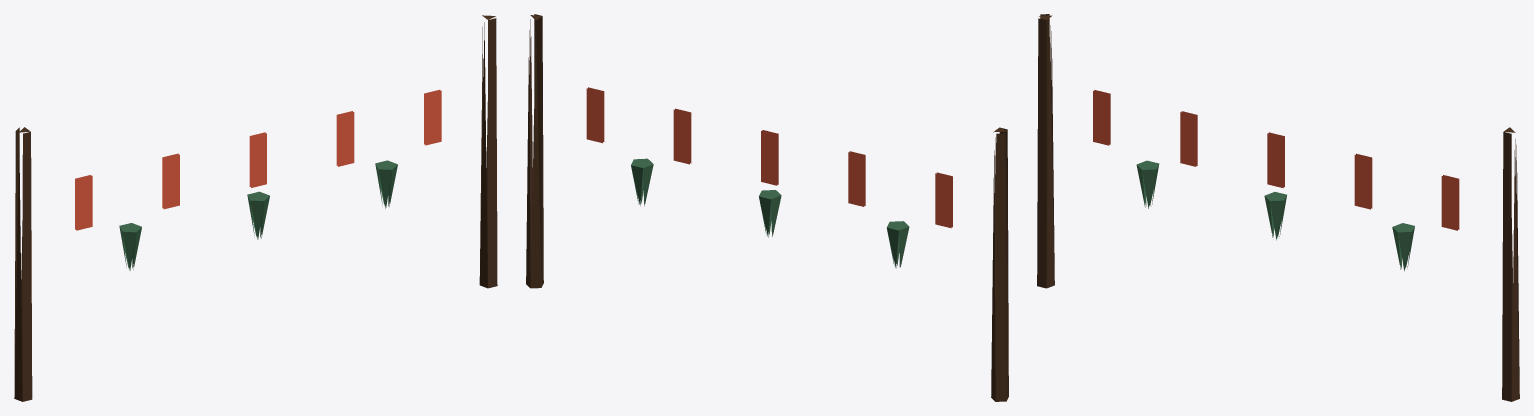
File: prop_plague_rope_lod1.glb
3 renders of one model, left to right at view 1: azimuth 30°, elevation 25°; view 2: azimuth 150°, elevation 25°; view 3: azimuth 330°, elevation 25°, orthographic.
Parts seen in each view (by area): view 1: prop_plague_rope_lod1; view 2: prop_plague_rope_lod1; view 3: prop_plague_rope_lod1.
Boxes of the visible parts, left/top/right/bottom form: prop_plague_rope_lod1: left=14, top=15, right=497, bottom=401; prop_plague_rope_lod1: left=526, top=14, right=1008, bottom=401; prop_plague_rope_lod1: left=1037, top=14, right=1519, bottom=401.
Bounding box in the file's own units: 4.13 × 2.2 × 0.19.
